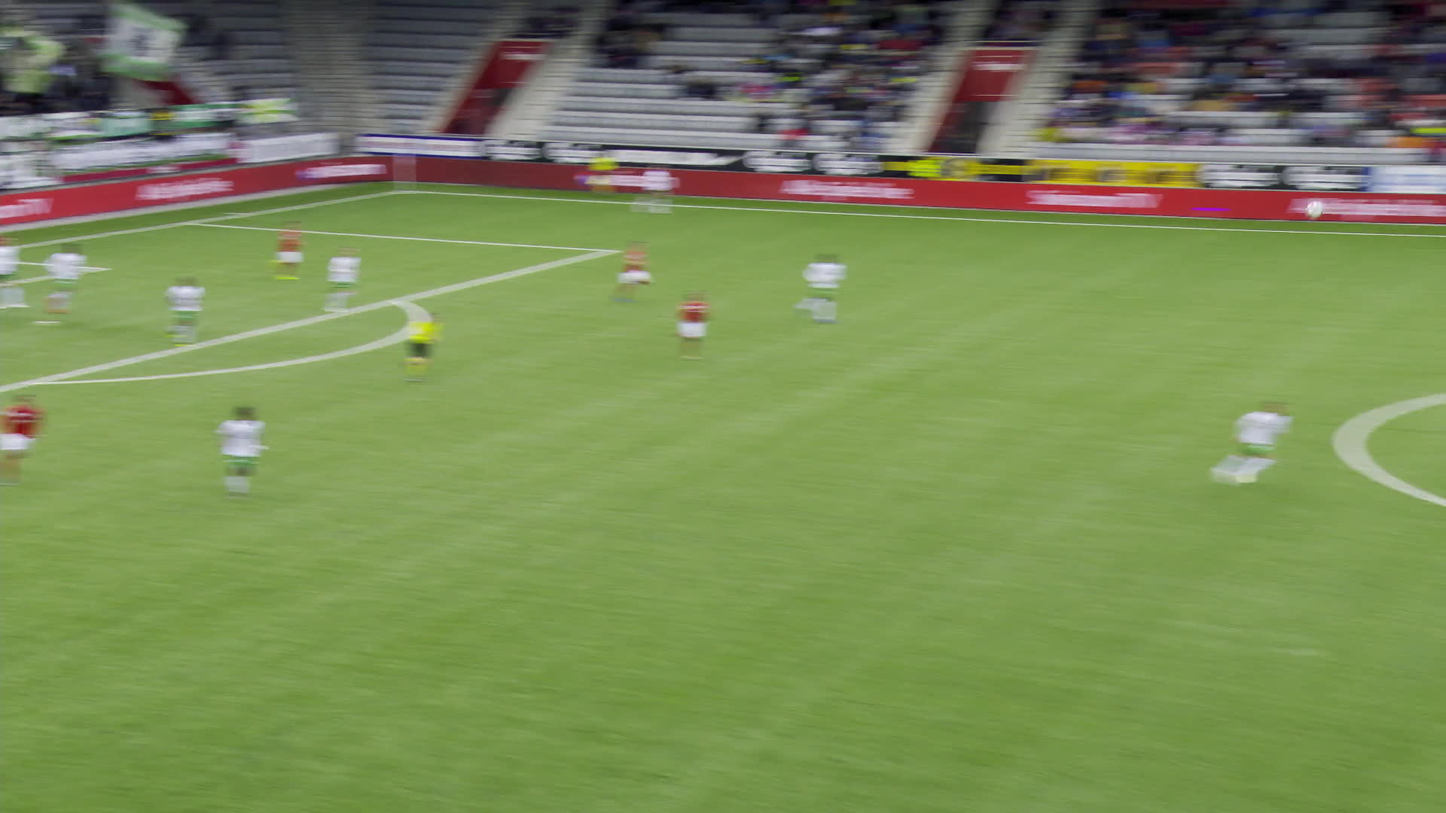ball: (1305, 198, 1324, 217)
player: (1213, 401, 1292, 488), (212, 403, 267, 500), (0, 391, 46, 490), (40, 237, 90, 325), (792, 252, 846, 325), (161, 272, 207, 349), (5, 227, 61, 285), (606, 238, 652, 304), (670, 288, 710, 362), (319, 245, 361, 315), (266, 222, 308, 282), (632, 158, 672, 214), (0, 234, 26, 309)
referee: (401, 308, 449, 385), (583, 148, 621, 199)
